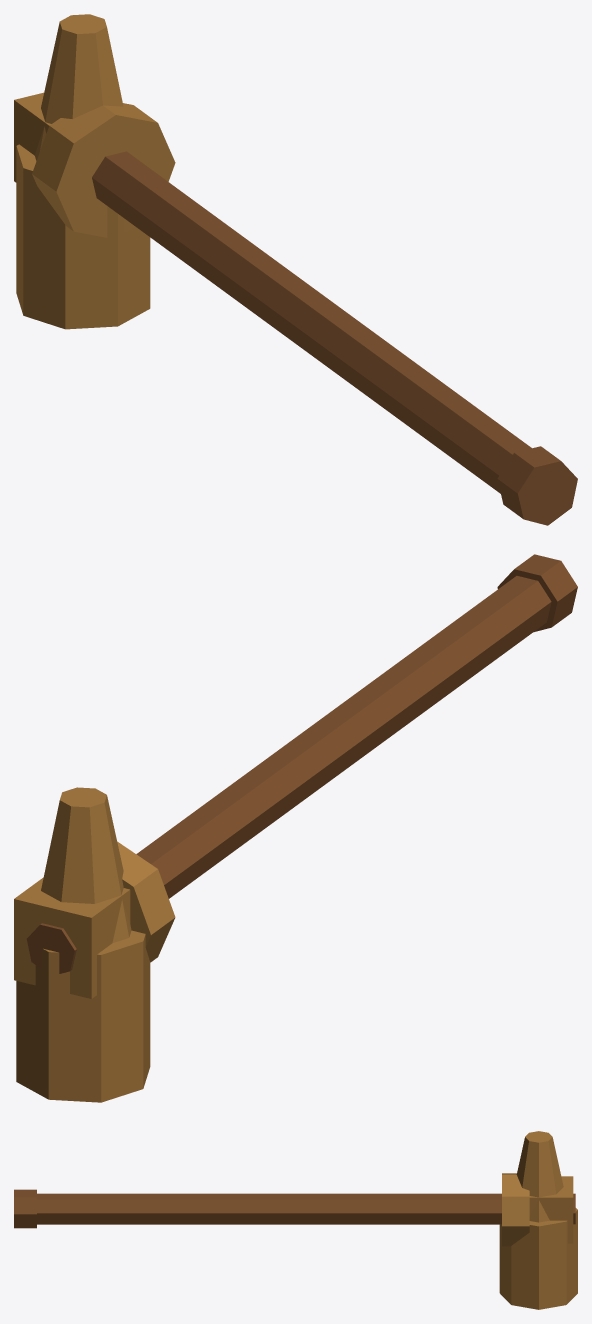
The model's file is Tool_Hammer_Bronze.fbx.
3 renders of one model, top to bottom at view 1: azimuth 30°, elevation 25°; view 2: azimuth 150°, elevation 25°; view 3: azimuth 270°, elevation 25°, orthographic. The views are drawn at different scales.
Visible parts, largest first — view 1: Tool_Hammer_Bronze; view 2: Tool_Hammer_Bronze; view 3: Tool_Hammer_Bronze.
Boxes of the visible parts, x1,y1,x2,y2 form: Tool_Hammer_Bronze: (14, 14, 577, 525); Tool_Hammer_Bronze: (14, 554, 577, 1102); Tool_Hammer_Bronze: (14, 1131, 577, 1309).
Size of the model in its own units: 0.034 by 0.075 by 0.245.
